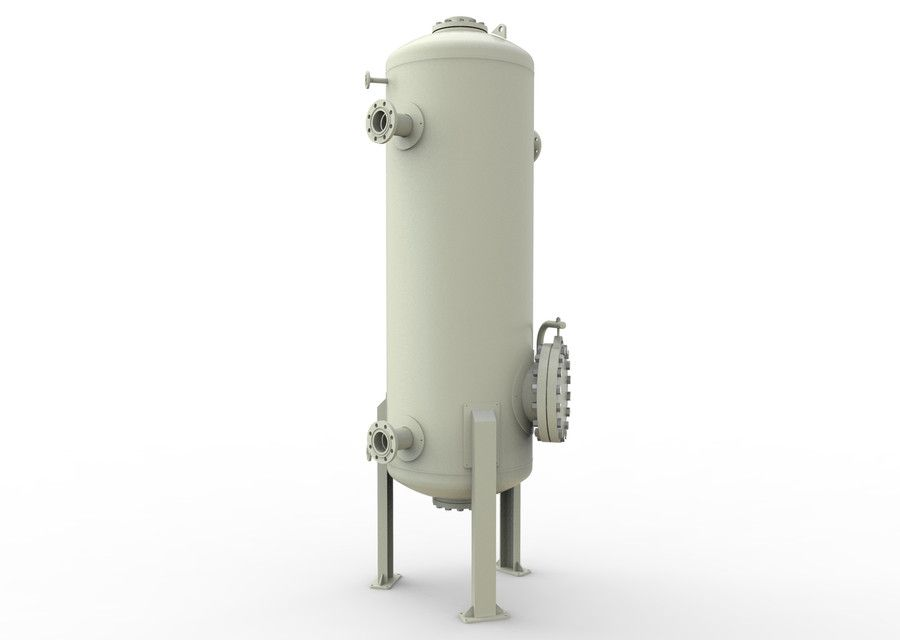nozzle: (349, 82, 428, 168), (350, 415, 423, 475)
